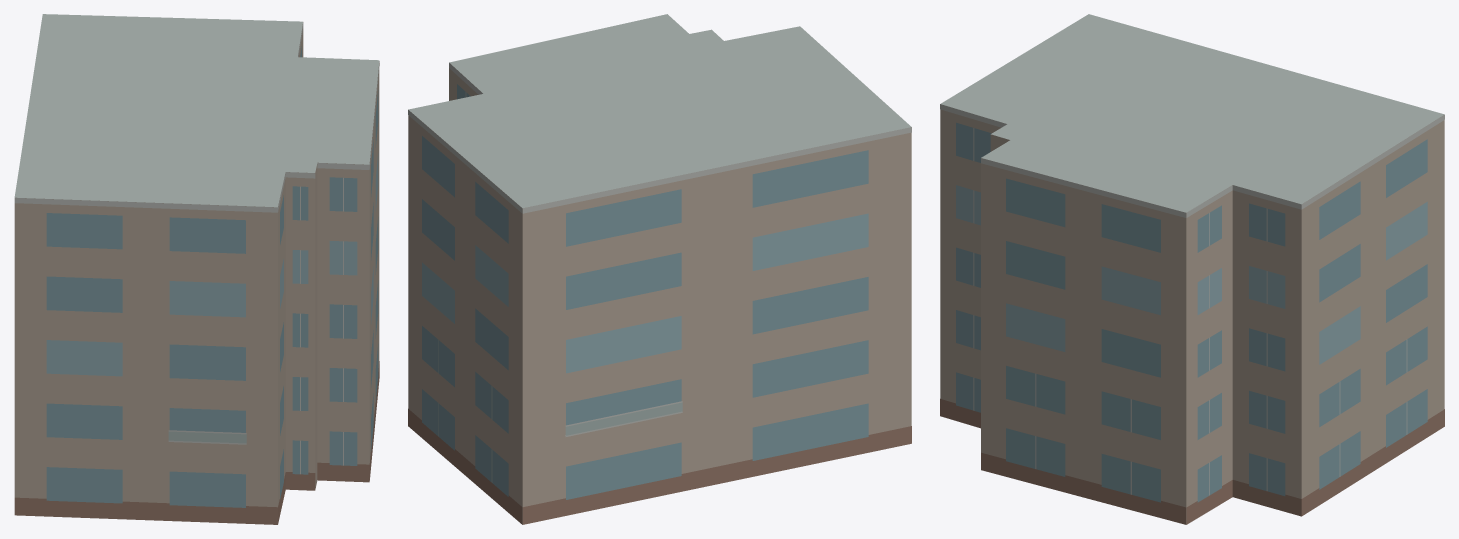
The model's file is survey-upis-32725943.glb.
3 renders of one model, left to right at view 1: azimuth 30°, elevation 25°; view 2: azimuth 150°, elevation 25°; view 3: azimuth 270°, elevation 25°, orthographic.
Visible parts, largest first — view 1: survey-upis-32725943.tmp; view 2: survey-upis-32725943.tmp; view 3: survey-upis-32725943.tmp.
Boxes of the visible parts, bbox=[...] form: survey-upis-32725943.tmp: bbox=[14, 14, 379, 524]; survey-upis-32725943.tmp: bbox=[408, 14, 911, 524]; survey-upis-32725943.tmp: bbox=[940, 14, 1444, 524].
Bounding box in the file's own units: 19.4 × 14.2 × 20.82.
